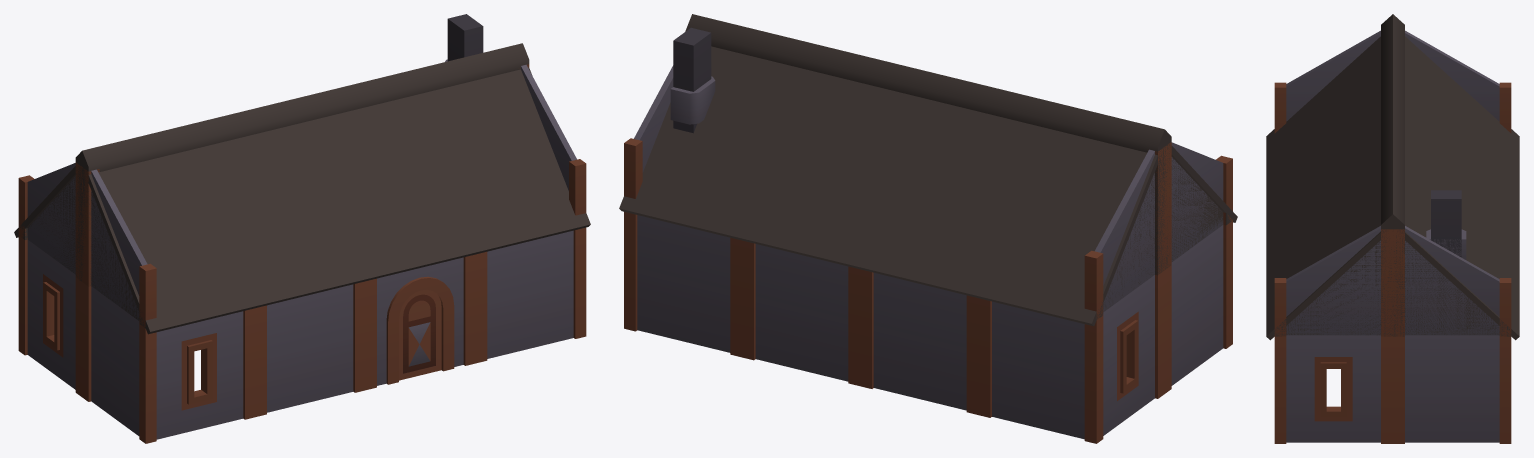
The model's file is maison-volcan-2.glb.
The picture shows the model from 3 angles, left to right: view 1: azimuth 30°, elevation 25°; view 2: azimuth 150°, elevation 25°; view 3: azimuth 270°, elevation 25°; orthographic projection. The views are drawn at different scales.
Parts seen in each view (by area): view 1: roof-high, wall-window-small; view 2: roof-high, wall-window-small; view 3: wall-window-small, roof-high.
Part boxes in pixels (box(x1,y1,x2,y2)): roof-high: box(14, 43, 590, 334); wall-window-small: box(18, 14, 586, 443); roof-high: box(619, 14, 1237, 326); wall-window-small: box(624, 27, 1232, 443); wall-window-small: box(1274, 30, 1511, 443); roof-high: box(1266, 14, 1519, 340).
Bounding box in the file's own units: 12 × 6.6 × 6.42.
Materials: 2 (1 with a texture image).
